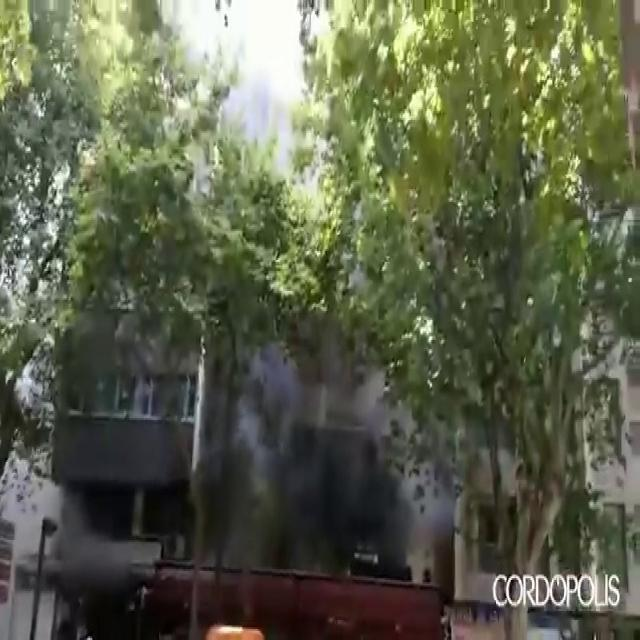Smoke: (205, 304, 432, 590)
